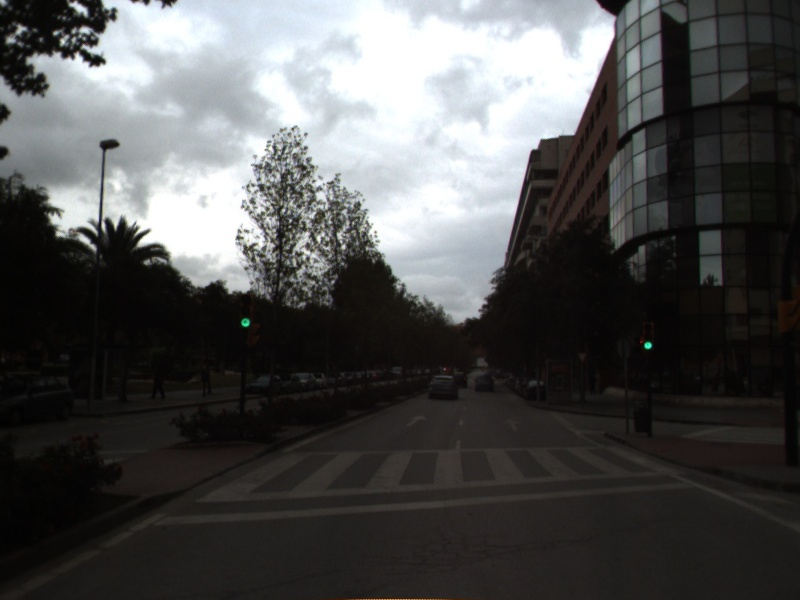STRAIGHT: (403, 413, 429, 428), (501, 417, 525, 433)
